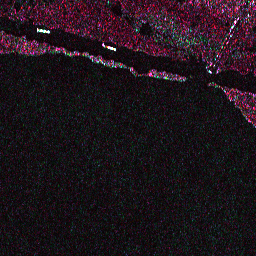ship: (35, 27, 51, 34), (105, 44, 118, 52)
